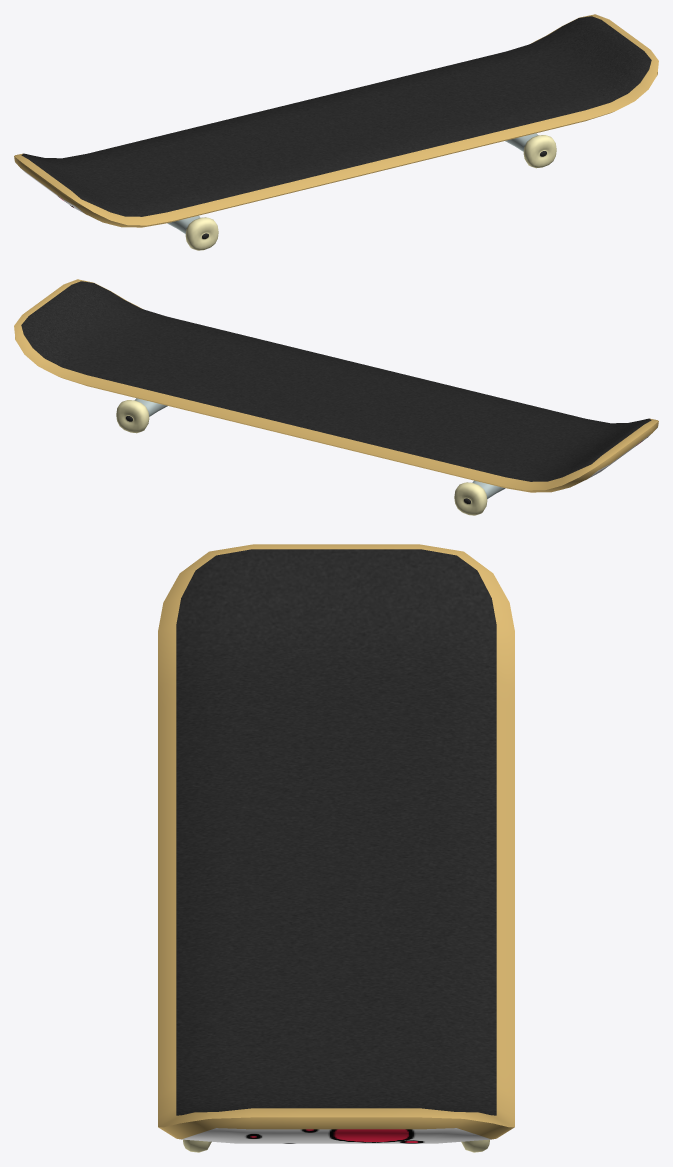
The model's file is SkateBoard.FBX.
The picture shows the model from 3 angles, top to bottom: view 1: azimuth 30°, elevation 25°; view 2: azimuth 150°, elevation 25°; view 3: azimuth 270°, elevation 25°; orthographic projection. The views are drawn at different scales.
Parts seen in each view (by area): view 1: Box001; view 2: Box001; view 3: Box001.
Boxes of the visible parts, bbox=[...] form: Box001: bbox=[14, 14, 658, 250]; Box001: bbox=[14, 279, 658, 515]; Box001: bbox=[158, 544, 514, 1152].
Size of the model in its own units: 44.05 by 5.52 by 11.56.
1 material, 1 textured.
